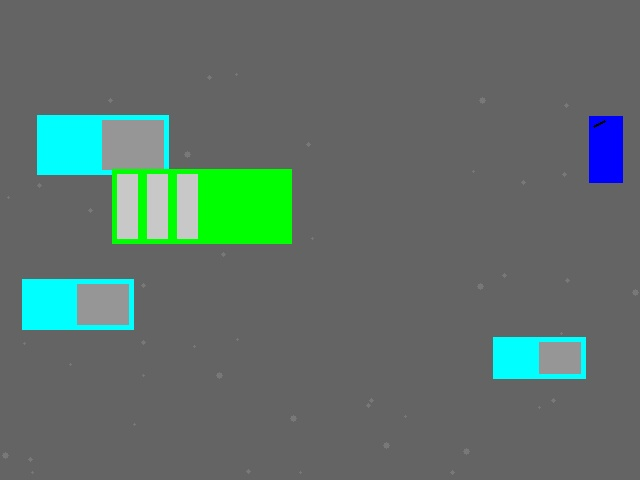bus: (112, 169, 291, 243)
motorcycle: (589, 116, 622, 182)
truck: (37, 115, 168, 174), (22, 279, 133, 329), (493, 337, 585, 378)
